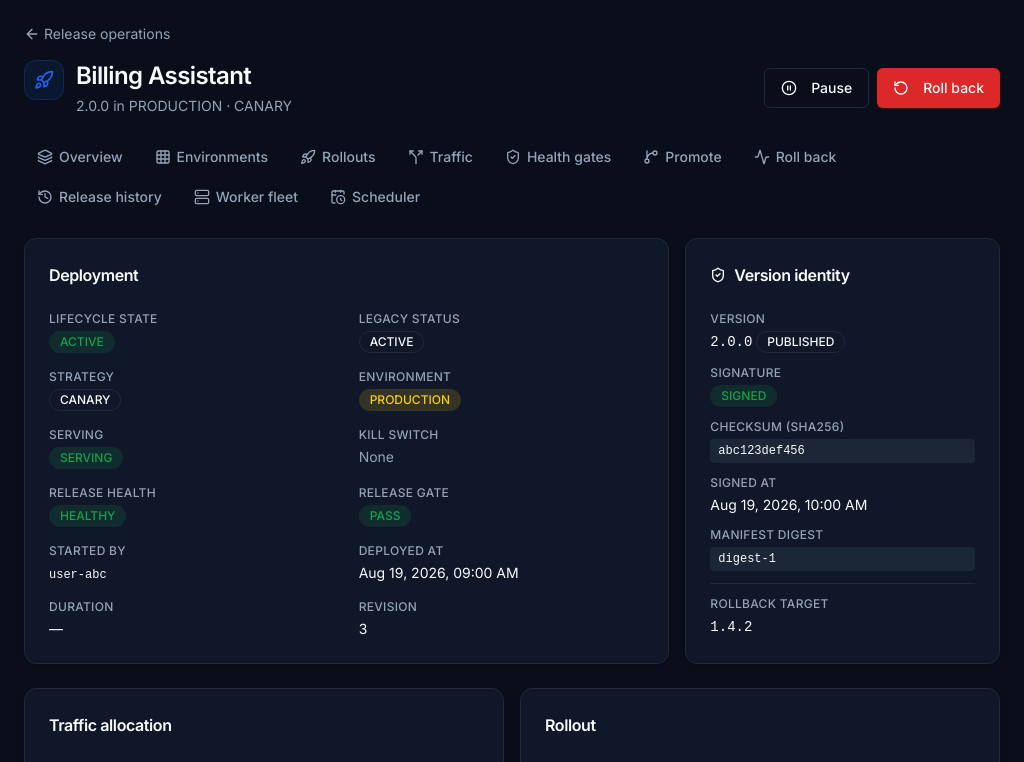
Test: AC-09 — dangerous actions are confirmation-gated › does not roll back on the first click — it opens a confirmation
This screenshot has width=1024, height=762.
Step 1. Click the button "Roll back" → (939, 88), box [877,68,1000,108]
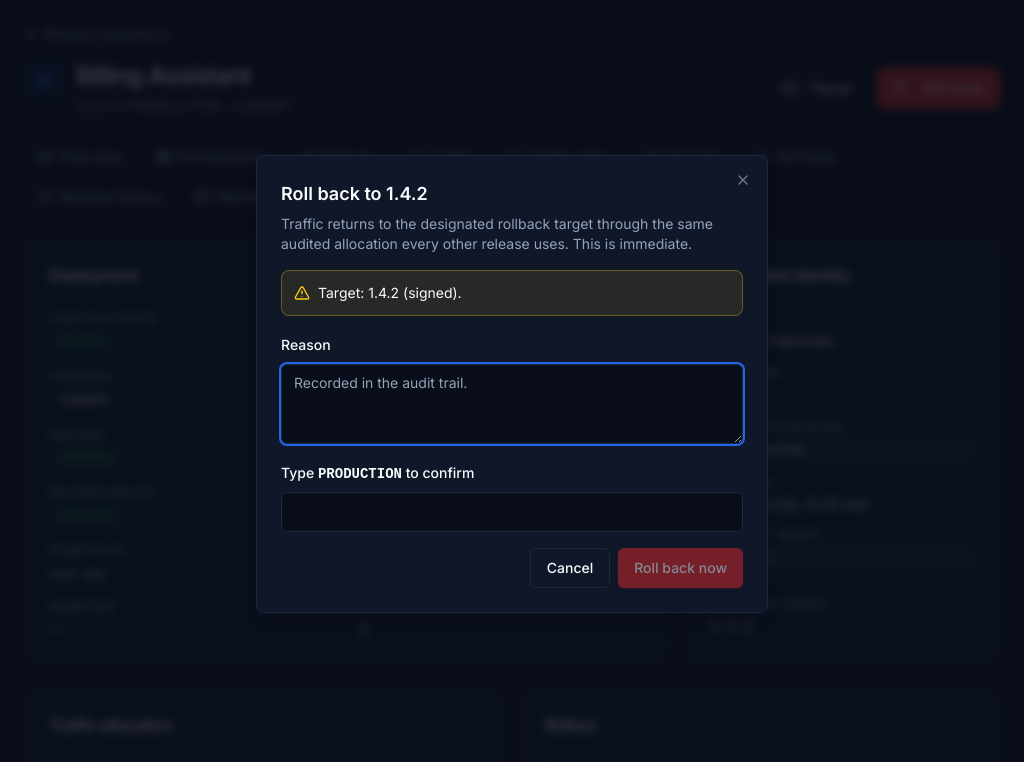
Expected: the dialog is shown, [256,155,768,613]
